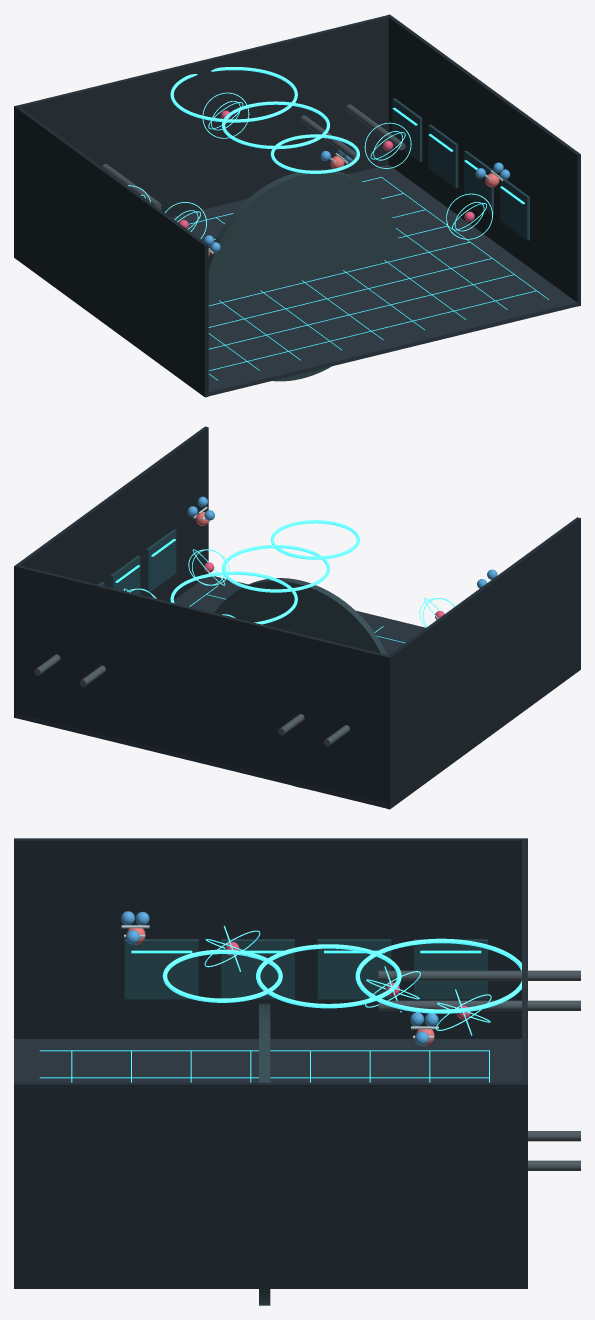
File: scientific_lab.glb
3 views of the same model, one above another, from view 1: azimuth 30°, elevation 25°; view 2: azimuth 150°, elevation 25°; view 3: azimuth 270°, elevation 25° (orthographic). The views are drawn at different scales.
Parts seen in each view (by area): view 1: back_wall, floor, left_wall, right_wall, platform, wall_panel_1_1, wall_panel_1_3, wall_panel_1_0, wall_panel_1_2, ceiling_ring-7.5, ceiling_ring-4.0, ceiling_ring-0.7 (+2 smaller); view 2: back_wall, left_wall, right_wall, platform, floor, wall_panel_1_3, ceiling_ring-4.0, wall_panel_1_2, ceiling_ring-0.7, ceiling_ring-7.5; view 3: right_wall, left_wall, floor, wall_panel_-1_3, wall_panel_-1_1, wall_panel_-1_2, wall_panel_-1_0, column-7, ceiling_ring-7.5, column-4.8, ceiling_ring-4.0, back_wall (+4 smaller).
Part boxes in pixels (x1=…): back_wall: x1=17, y1=15, x2=389, y2=217; floor: x1=171, y1=164, x2=578, y2=396; left_wall: x1=14, y1=105, x2=208, y2=397; right_wall: x1=387, y1=14, x2=580, y2=306; platform: x1=208, y1=169, x2=399, y2=381; wall_panel_1_1: x1=428, y1=124, x2=458, y2=188; wall_panel_1_3: x1=500, y1=179, x2=529, y2=240; wall_panel_1_0: x1=392, y1=98, x2=422, y2=161; wall_panel_1_2: x1=464, y1=150, x2=493, y2=214; ceiling_ring-7.5: x1=170, y1=67, x2=297, y2=122; ceiling_ring-4.0: x1=221, y1=101, x2=330, y2=149; ceiling_ring-0.7: x1=270, y1=134, x2=359, y2=173; back_wall: x1=16, y1=565, x2=389, y2=807; left_wall: x1=386, y1=517, x2=580, y2=809; right_wall: x1=14, y1=426, x2=208, y2=718; platform: x1=214, y1=578, x2=387, y2=788; floor: x1=16, y1=576, x2=425, y2=808; wall_panel_1_3: x1=146, y1=529, x2=176, y2=593; ceiling_ring-4.0: x1=222, y1=545, x2=330, y2=592; wall_panel_1_2: x1=110, y1=555, x2=140, y2=594; ceiling_ring-0.7: x1=270, y1=520, x2=359, y2=559; ceiling_ring-7.5: x1=170, y1=571, x2=297, y2=624; right_wall: x1=14, y1=1082, x2=527, y2=1288; left_wall: x1=14, y1=838, x2=527, y2=1038; floor: x1=14, y1=1039, x2=527, y2=1082; wall_panel_-1_3: x1=124, y1=939, x2=198, y2=999; wall_panel_-1_1: x1=317, y1=939, x2=391, y2=999; wall_panel_-1_2: x1=221, y1=939, x2=294, y2=999; wall_panel_-1_0: x1=414, y1=939, x2=487, y2=999; column-7: x1=378, y1=970, x2=580, y2=980; ceiling_ring-7.5: x1=355, y1=938, x2=521, y2=1013; column-4.8: x1=378, y1=1000, x2=580, y2=1010; ceiling_ring-4.0: x1=256, y1=944, x2=401, y2=1008; back_wall: x1=522, y1=839, x2=527, y2=1083.
Size of the model in its own units: 18.18 by 11.33 by 17.65.
